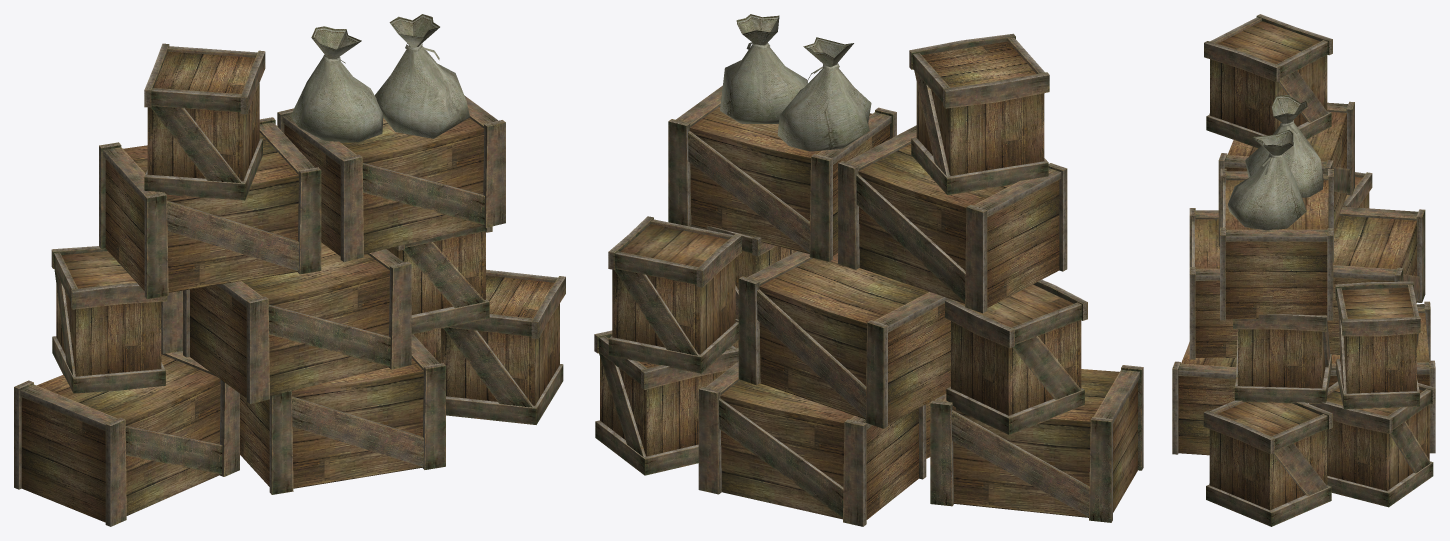
The model's file is Stacked_Crates.obj.
3 renders of one model, left to right at view 1: azimuth 30°, elevation 25°; view 2: azimuth 150°, elevation 25°; view 3: azimuth 270°, elevation 25°, orthographic. The views are drawn at different scales.
Parts seen in each view (by area): view 1: 230; view 2: 230; view 3: 230.
Boxes of the visible parts, x1,y1,x2,y2 form: 230: (14, 14, 565, 526); 230: (594, 14, 1143, 526); 230: (1172, 14, 1435, 526).
Bounding box in the file's own units: 0.5939 × 0.4345 × 0.3064.
2 materials, 2 textured.
